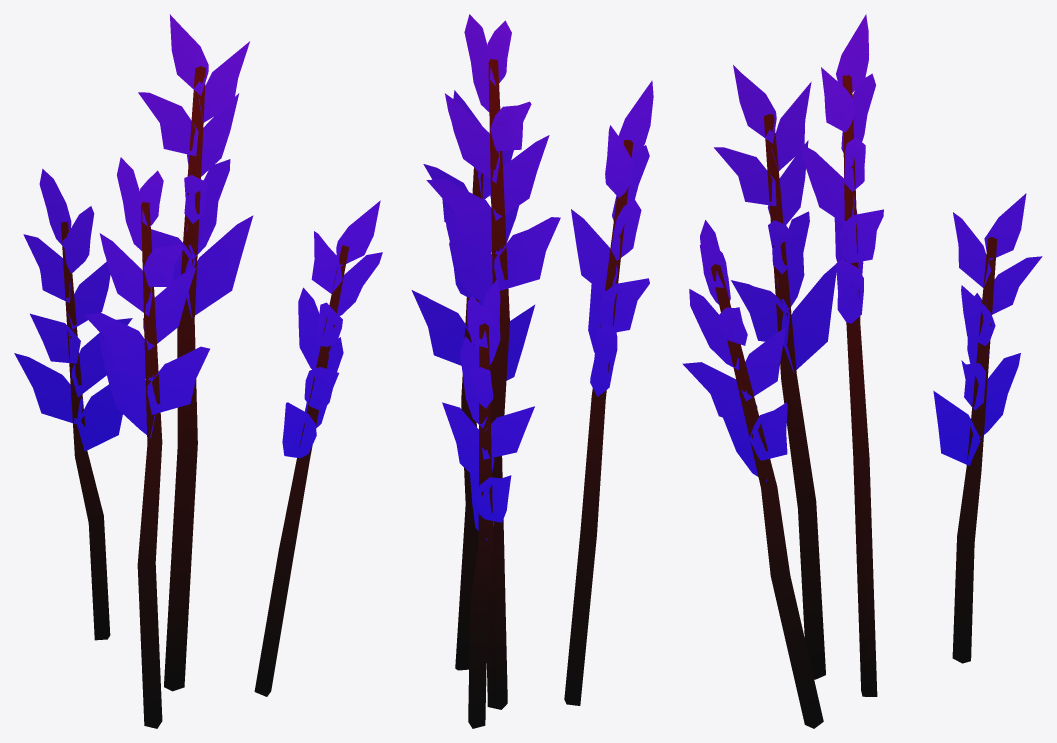
File: SM_Env_Flowers_05.gltf
3 renders of one model, left to right at view 1: azimuth 30°, elevation 25°; view 2: azimuth 150°, elevation 25°; view 3: azimuth 270°, elevation 25°, orthographic.
Visible parts, largest first — view 1: SM_Env_Flowers_05_LOD0; view 2: SM_Env_Flowers_05_LOD0; view 3: SM_Env_Flowers_05_LOD0.
Part boxes in pixels (bbox=[...]): SM_Env_Flowers_05_LOD0: bbox=[14, 14, 382, 728]; SM_Env_Flowers_05_LOD0: bbox=[411, 14, 653, 728]; SM_Env_Flowers_05_LOD0: bbox=[682, 14, 1042, 728].
Size of the model in its own units: 0.7133 by 1.78 by 0.8506.
